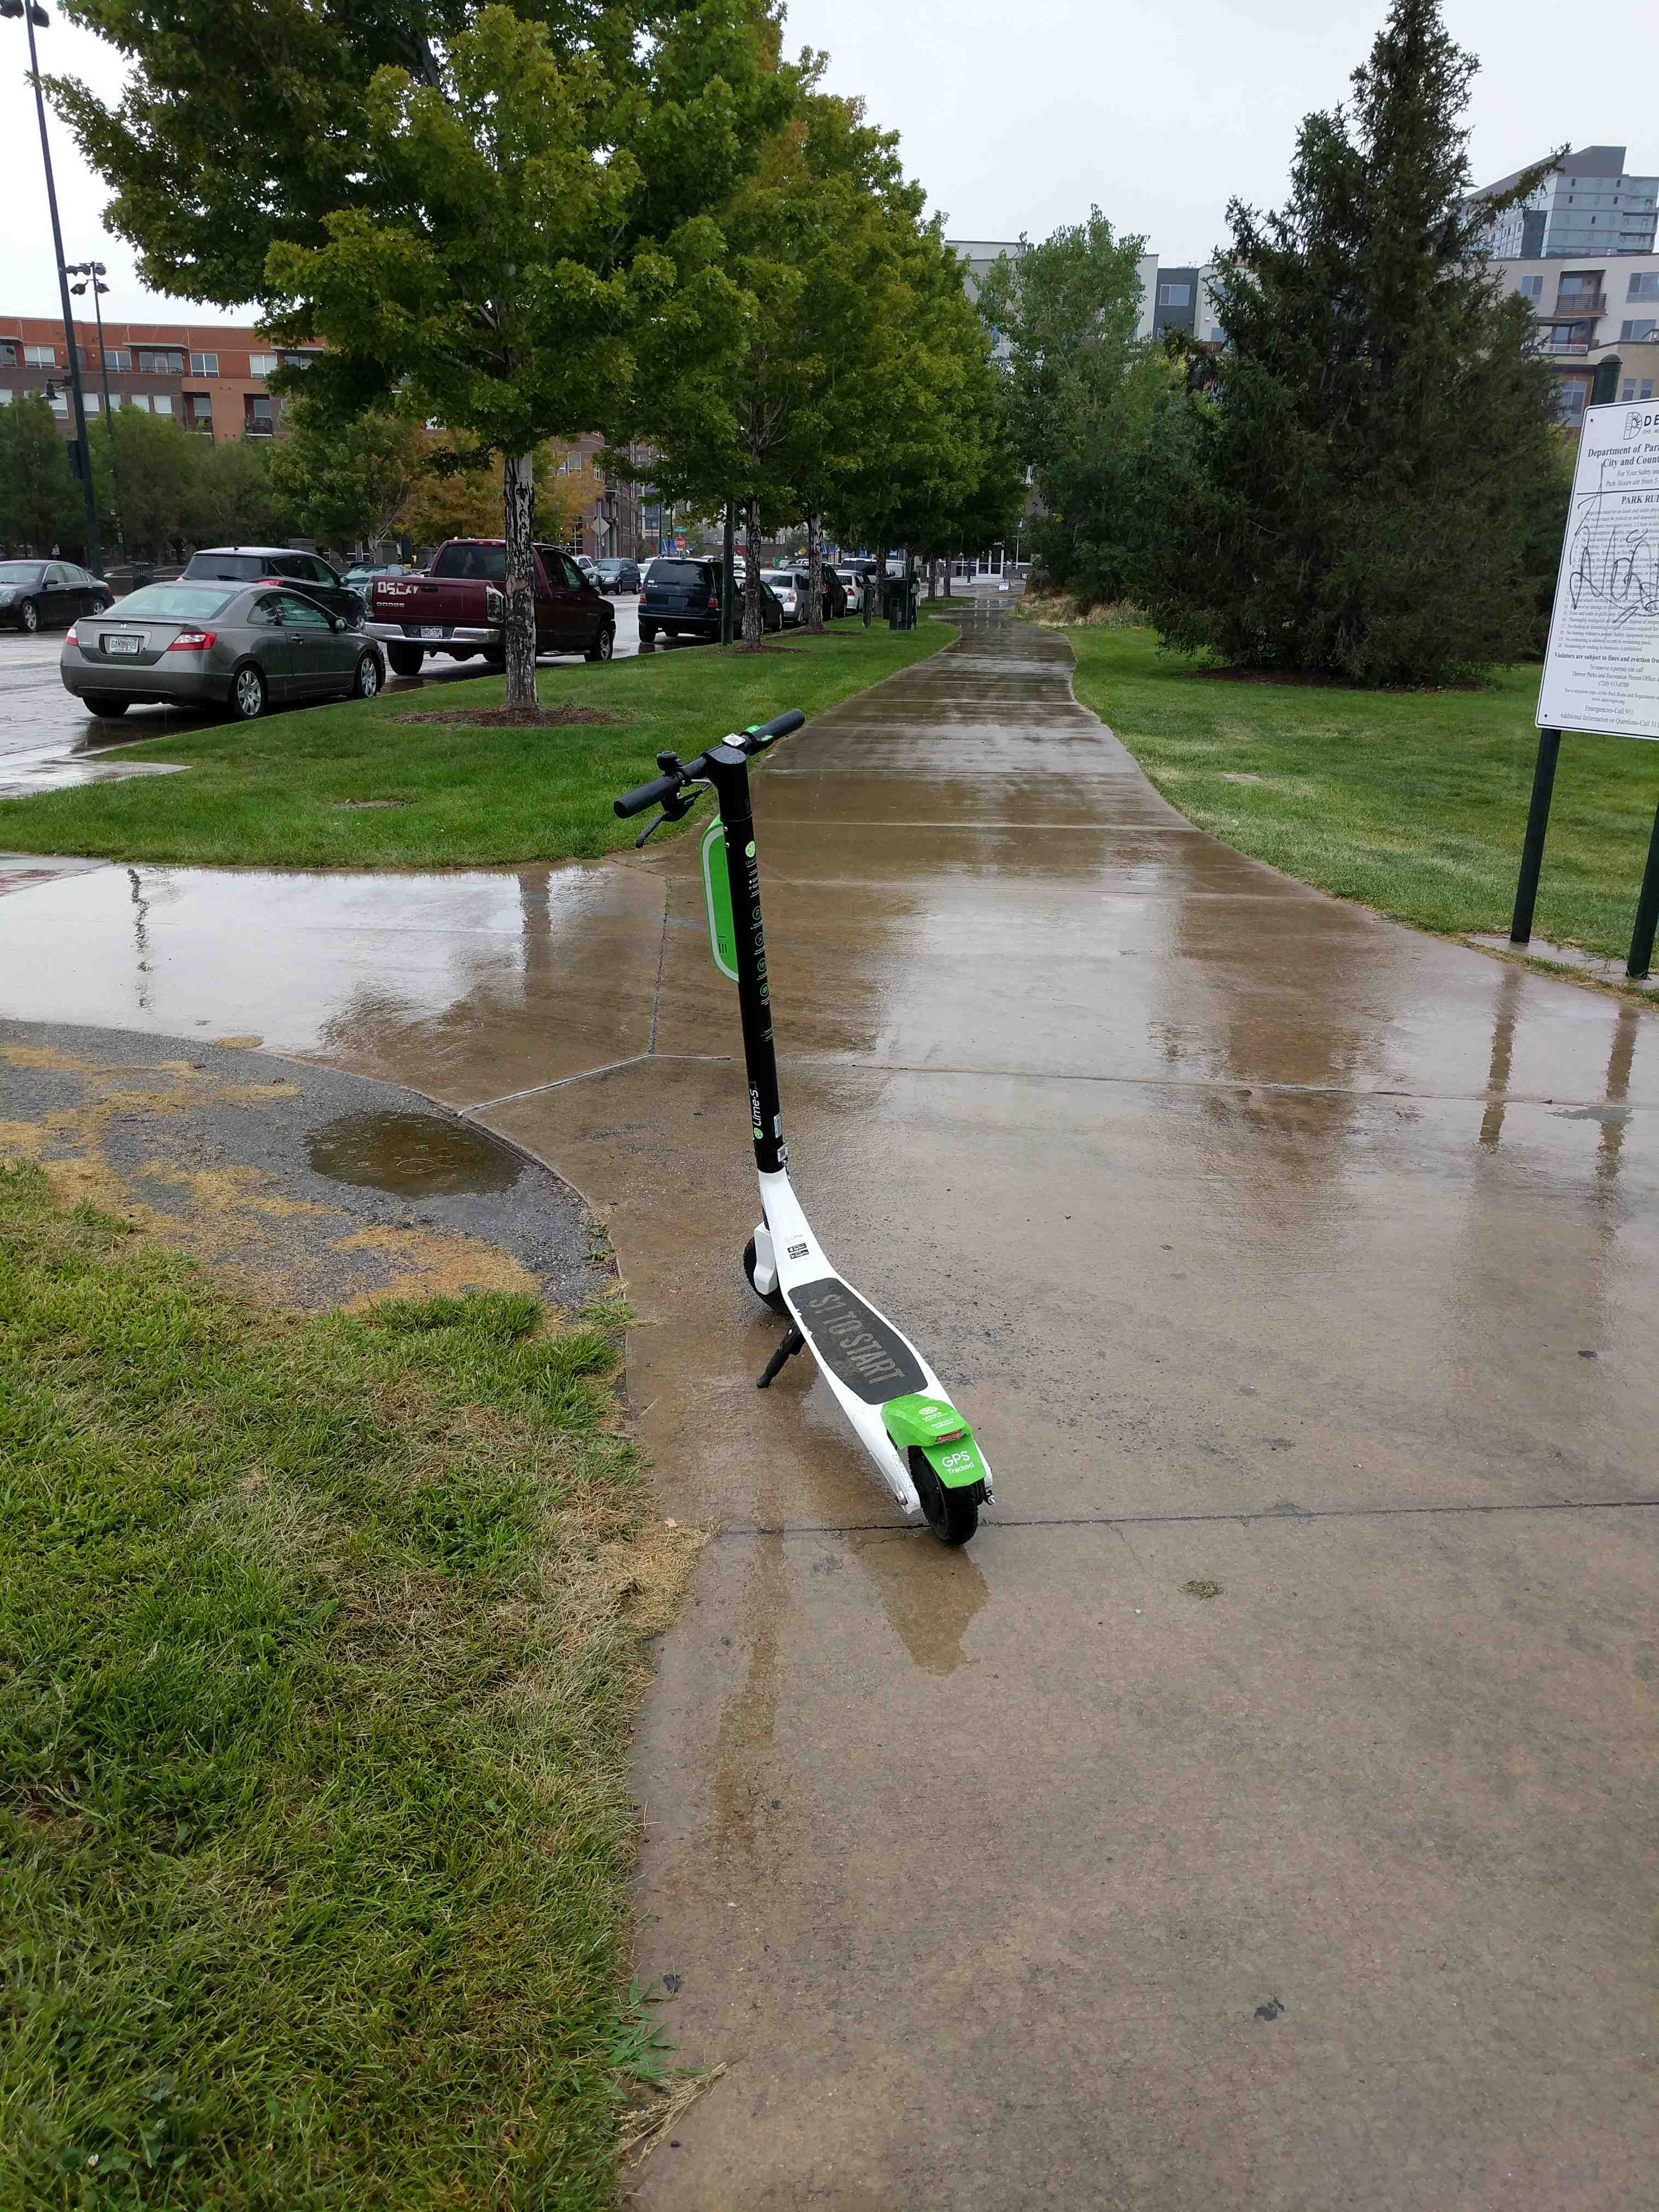scooter: (573, 707, 1037, 1569)
